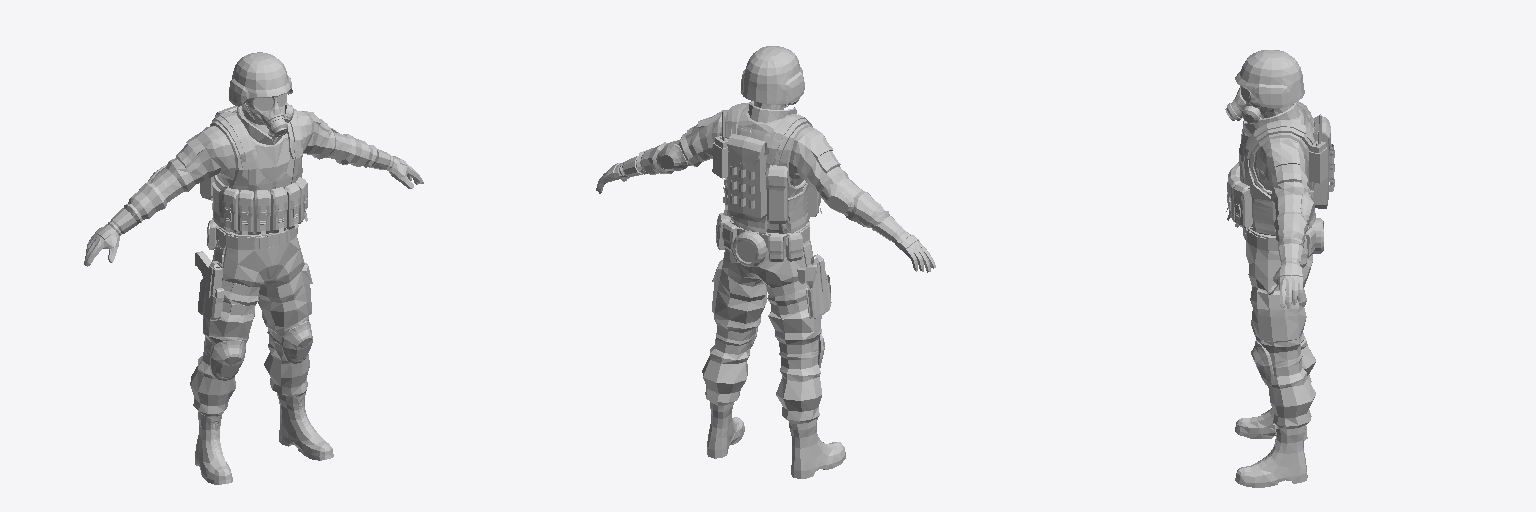
Rendered from Hunk.obj.
The picture shows the model from 3 angles: view 1: azimuth 30°, elevation 25°; view 2: azimuth 150°, elevation 25°; view 3: azimuth 270°, elevation 25°; orthographic projection.
Parts seen in each view (by area): view 1: 0, 1, 2; view 2: 1, 0, 2; view 3: 1, 0, 2.
Part boxes in pixels (bbox=[...]): 0: bbox=[84, 52, 423, 380]; 1: bbox=[190, 106, 333, 484]; 2: bbox=[124, 103, 377, 315]; 1: bbox=[702, 134, 845, 478]; 0: bbox=[596, 46, 935, 369]; 2: bbox=[636, 101, 889, 312]; 1: bbox=[1235, 116, 1334, 487]; 0: bbox=[1225, 50, 1327, 385]; 2: bbox=[1239, 101, 1315, 342].
Bounding box in the file's own units: 1.66 × 1.9 × 0.4643.